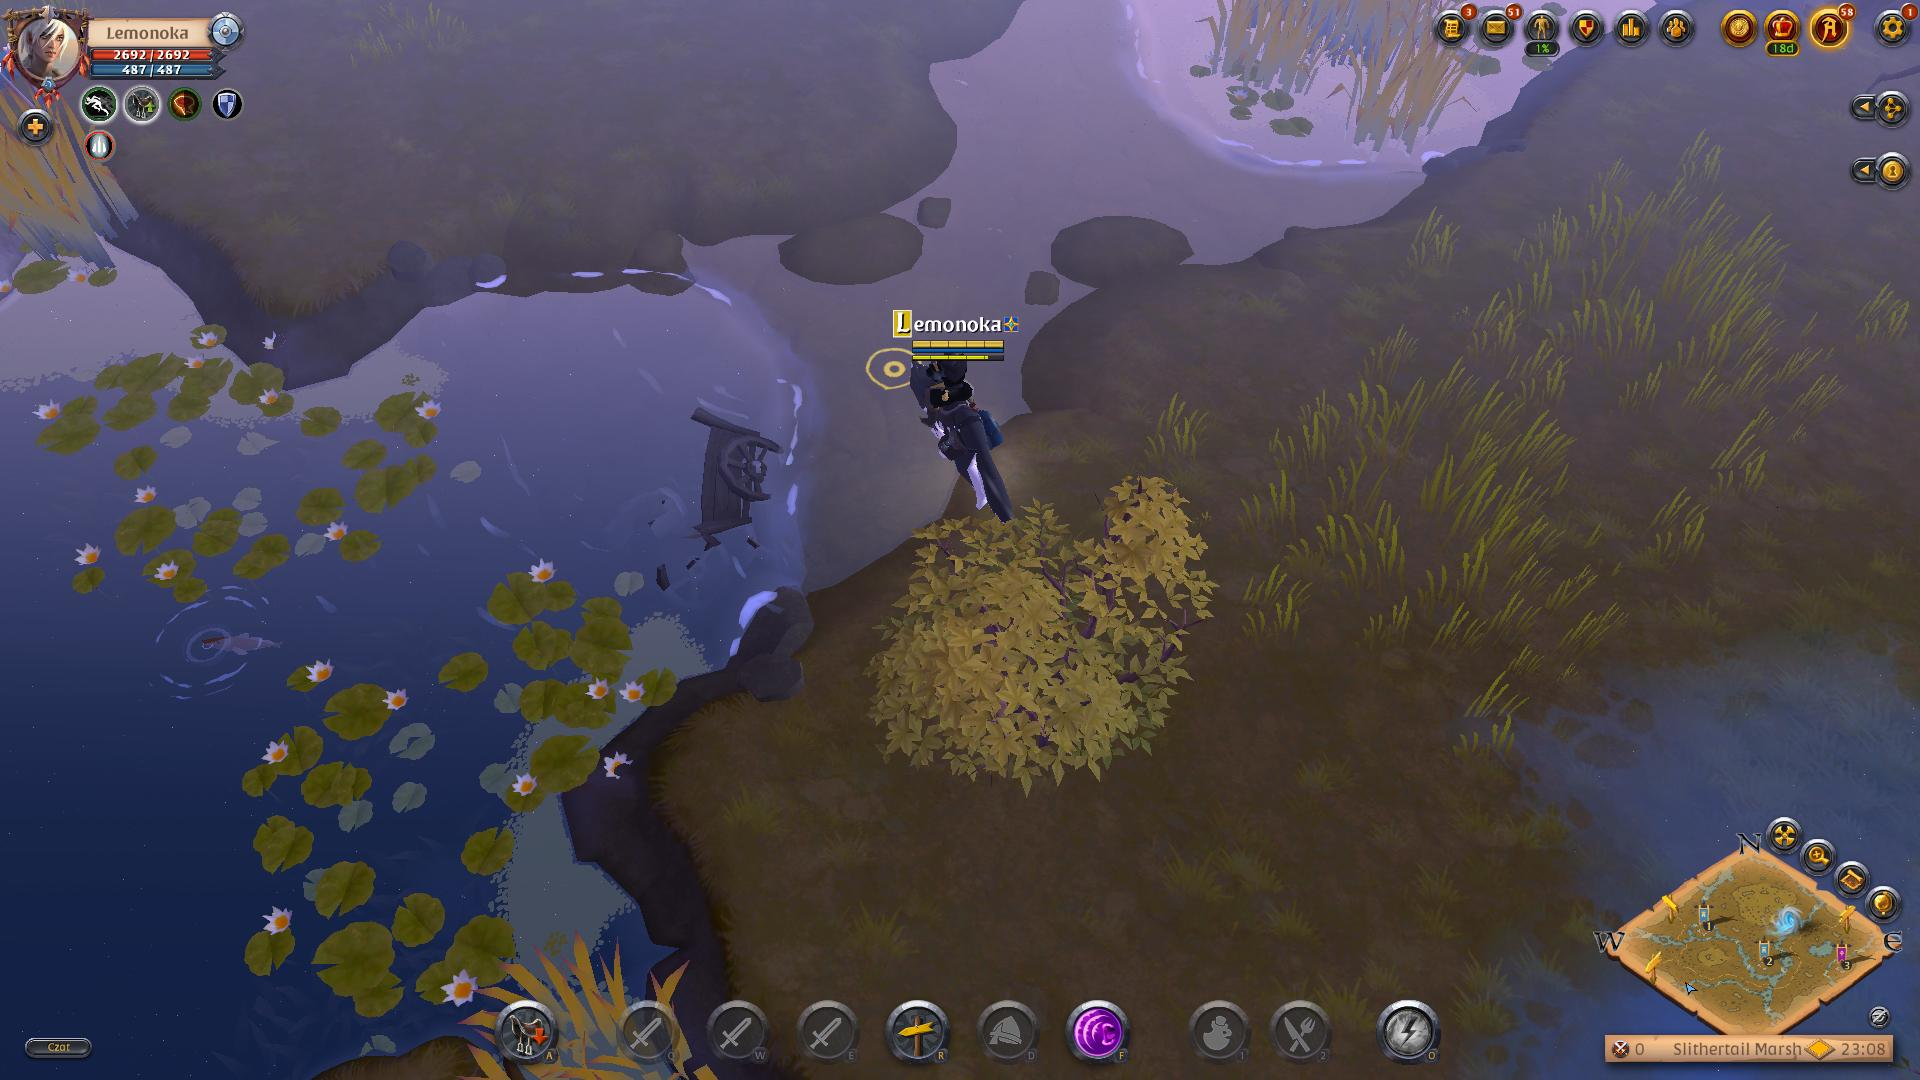fish: (141, 575, 285, 707)
